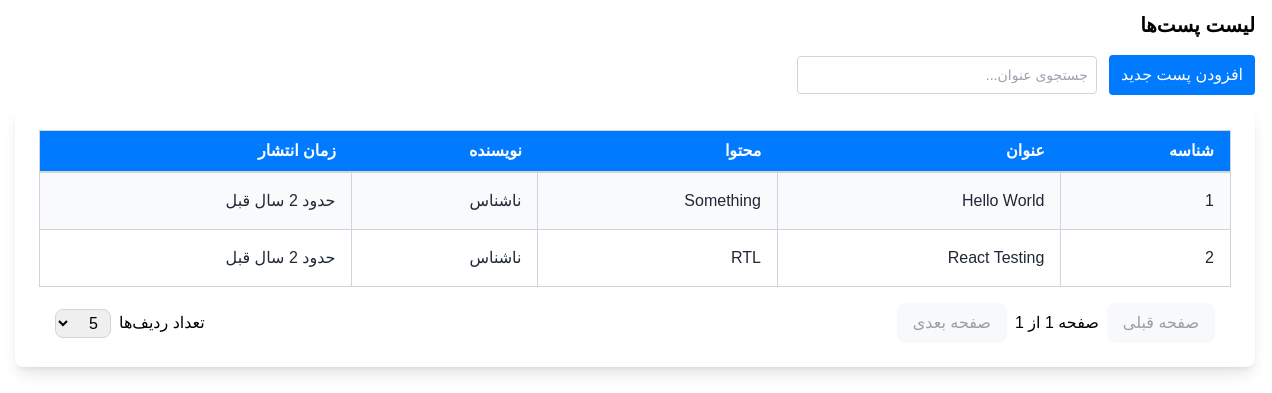
Test: Posts Component › filters posts based on search input
Expected: the text "Hello World" is shown, [777,172,1061,230]
Expected: the text "React Testing" is shown, [777,230,1061,286]
Type "hello" into the field with placeholder "جستجوی عنوان...". click: (947, 75)
box: [797,56,1097,94]
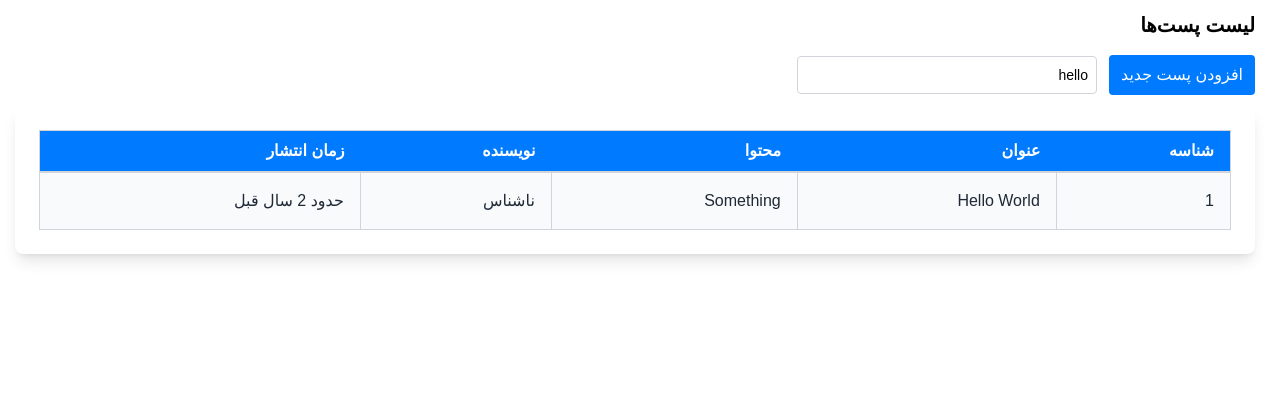
Expected: the text "Hello World" is shown, [797,172,1056,230]
Now the text "React Testing" is gone
